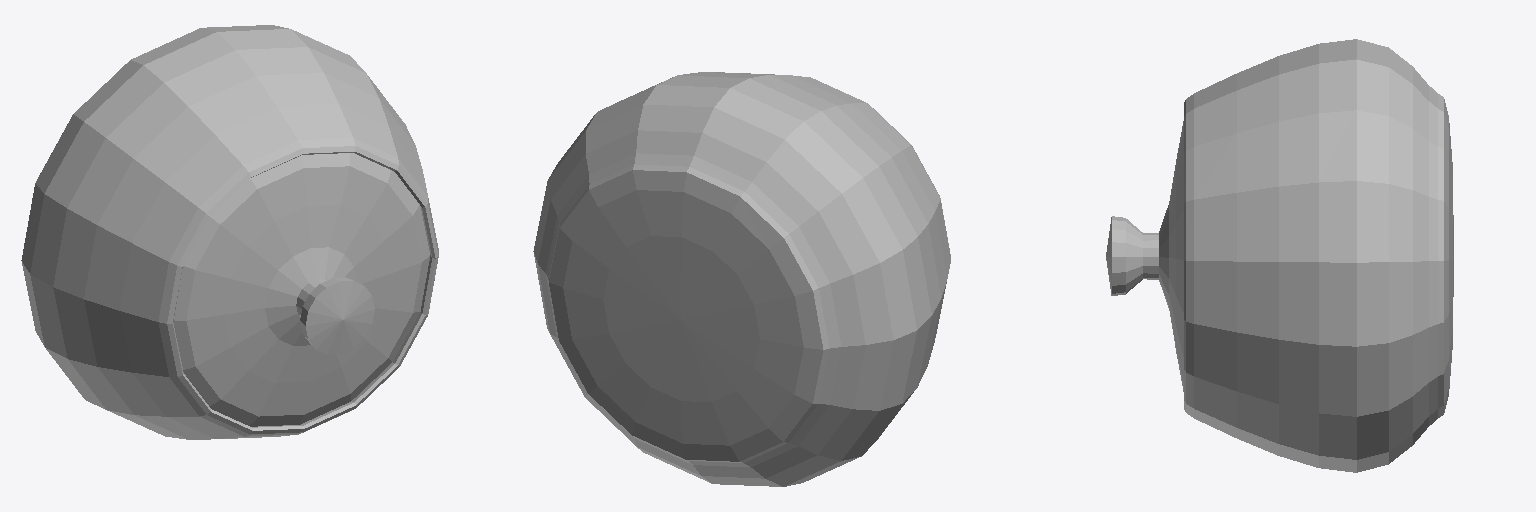
Rendered from testTransp.obj.
The picture shows the model from 3 angles: view 1: azimuth 30°, elevation 25°; view 2: azimuth 150°, elevation 25°; view 3: azimuth 270°, elevation 25°; orthographic projection.
Parts seen in each view (by area): view 1: Transp; view 2: Transp; view 3: Transp.
Boxes of the visible parts, box(x1,y1,x2,y2) form: Transp: box(21, 25, 438, 439); Transp: box(533, 72, 950, 486); Transp: box(1106, 39, 1453, 472).
Bounding box in the file's own units: 0.9991 × 0.9992 × 0.8037.